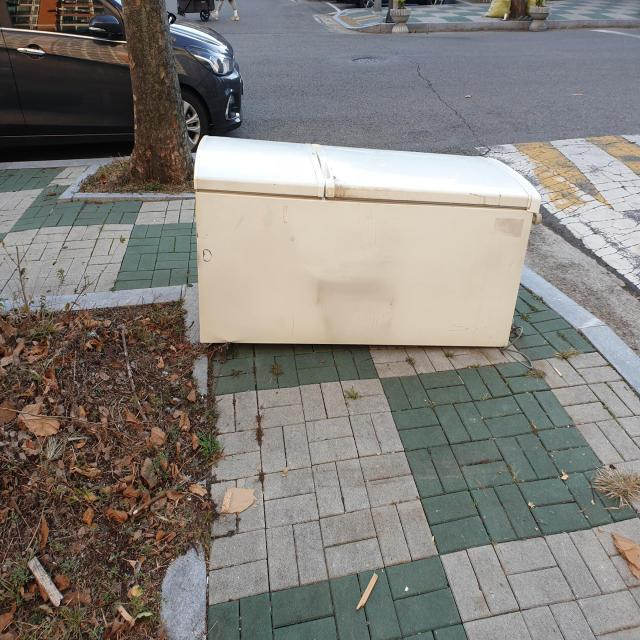refrigerator: (193, 134, 541, 348)
